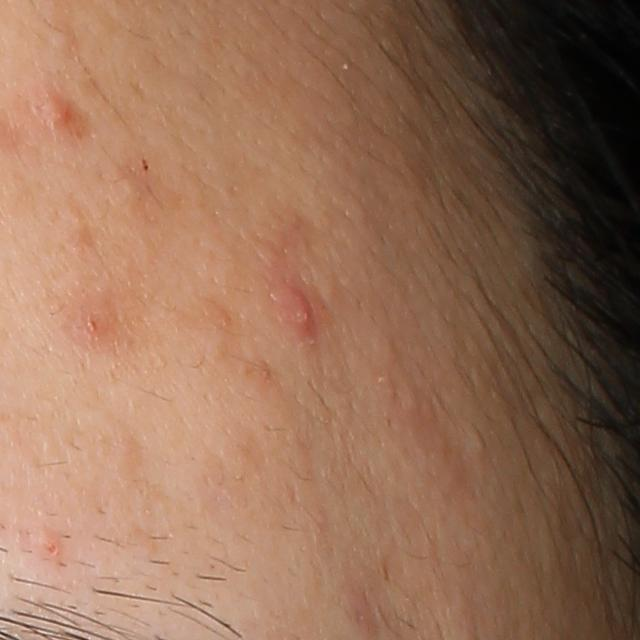papule: (277, 287, 321, 343), (40, 96, 79, 128)
